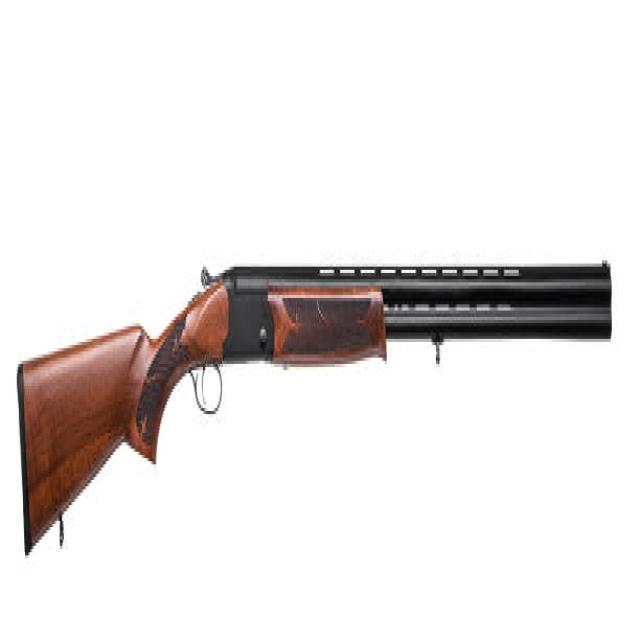rifle: (15, 235, 618, 584)
